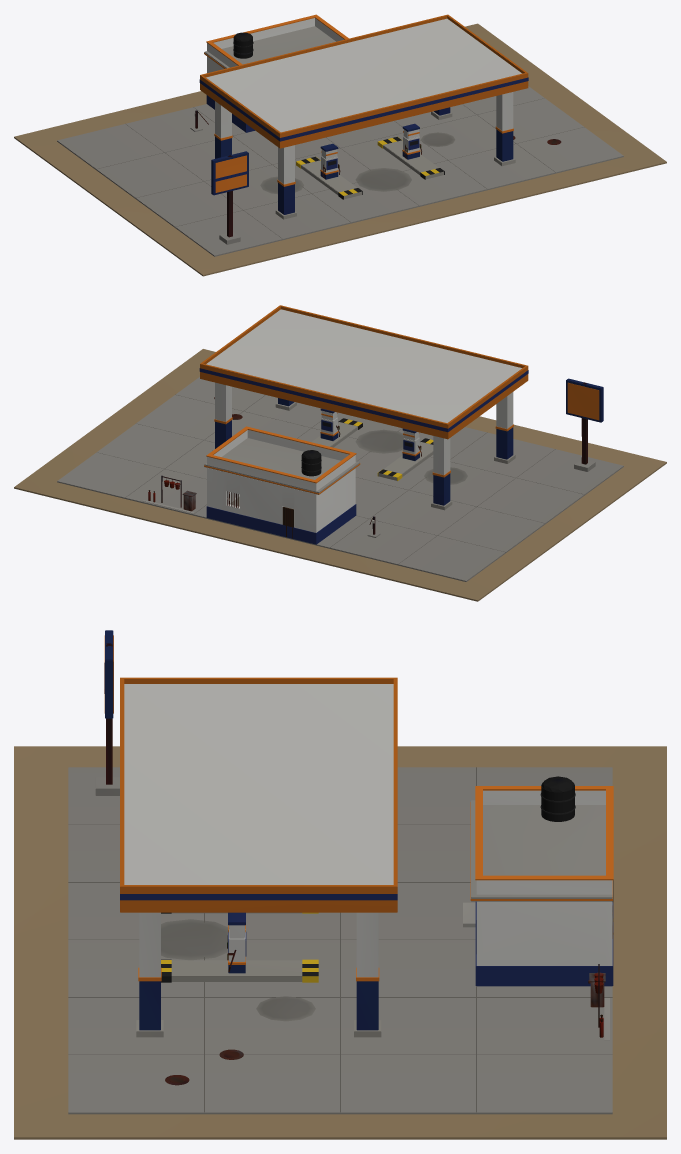
Rendered from petrol_pump_v2.glb.
The picture shows the model from 3 angles, top to bottom: view 1: azimuth 30°, elevation 25°; view 2: azimuth 150°, elevation 25°; view 3: azimuth 270°, elevation 25°; orthographic projection. The views are drawn at different scales.
Visible parts, largest first — view 1: hb_main, hb_metal; view 2: hb_main, hb_metal; view 3: hb_main, hb_metal.
Part boxes in pixels (<box>): hb_main: <box>14,14,666,276</box>; hb_metal: <box>195,110,561,237</box>; hb_main: <box>14,305,666,601</box>; hb_metal: <box>148,382,587,534</box>; hb_main: <box>14,630,666,1139</box>; hb_metal: <box>106,643,613,1085</box>.
Size of the model in its own units: 34 by 6.58 by 24.
